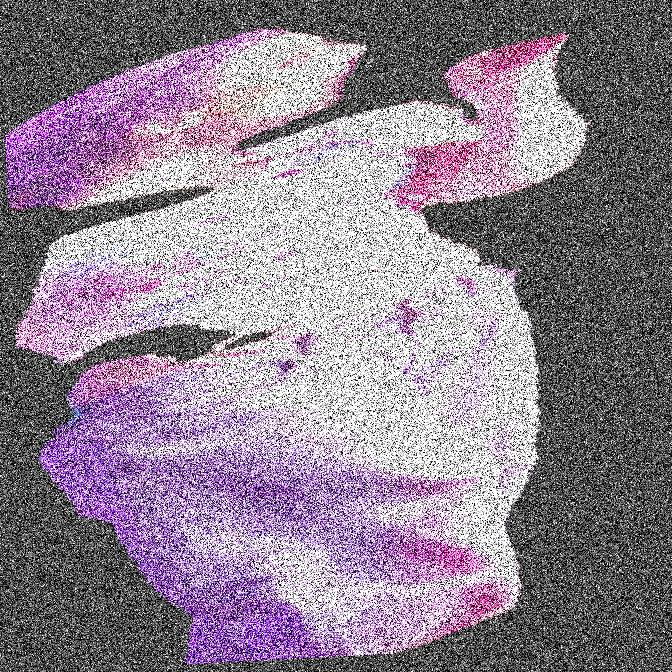Pessoa: (75, 0, 455, 671)
